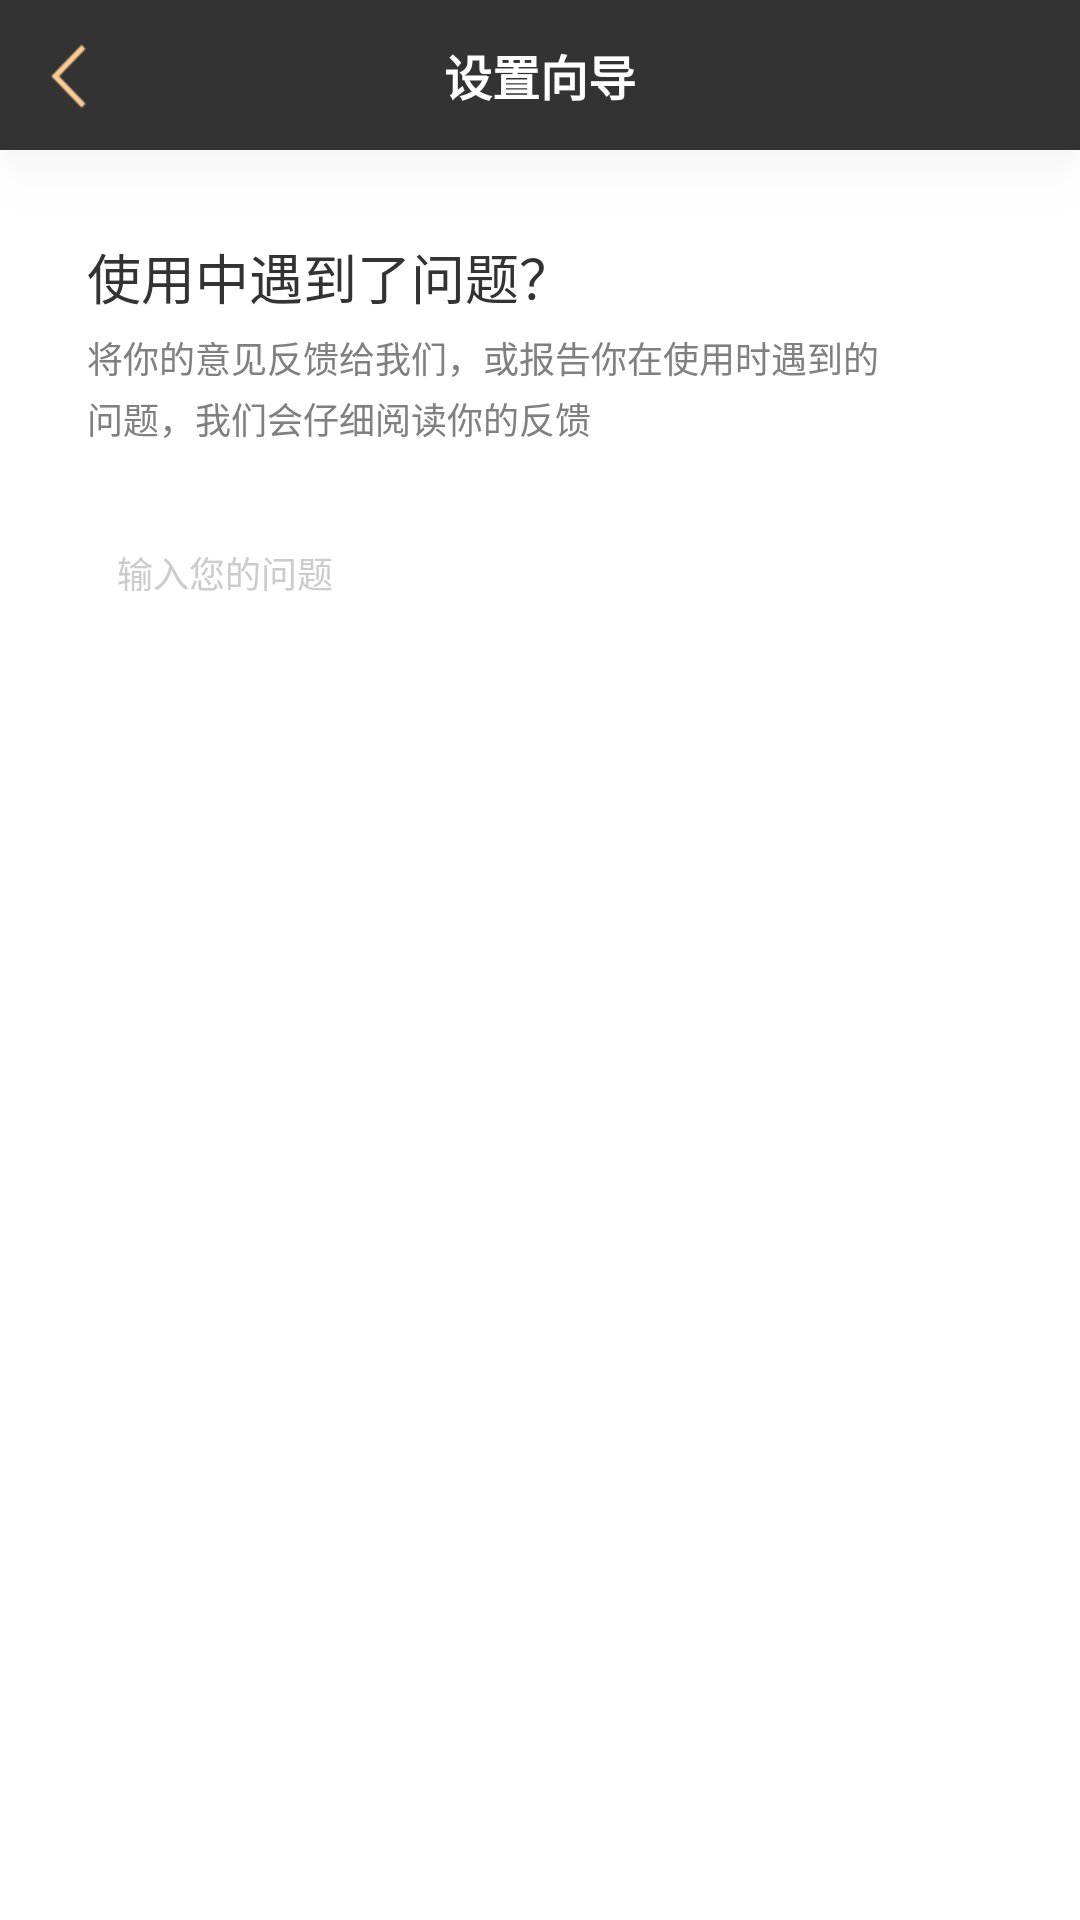

Screen size 1080*1920. Icon name, then its box in pixels as [x1,y1,x2,y2]:
left back: [51,45,86,108]
